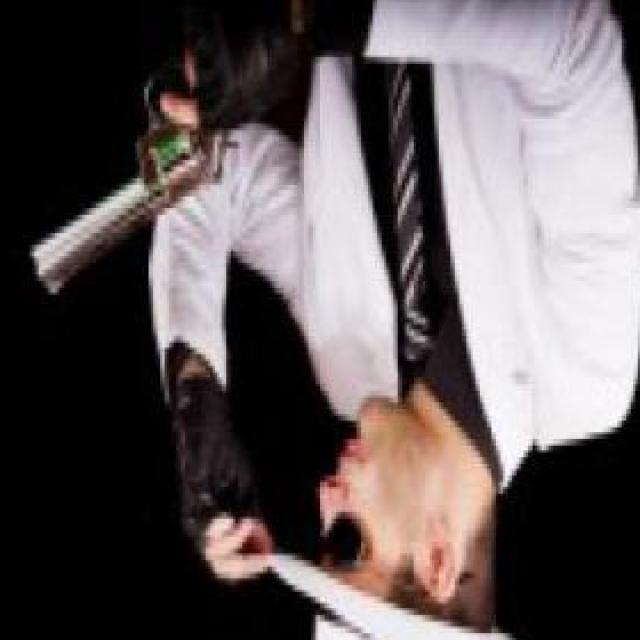pistol: (26, 25, 268, 304)
